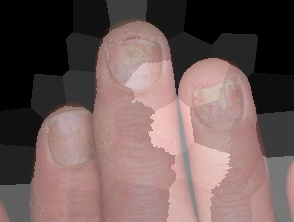Nail_psoriasis: (86, 6, 184, 114), (182, 60, 265, 155), (32, 97, 107, 179)
